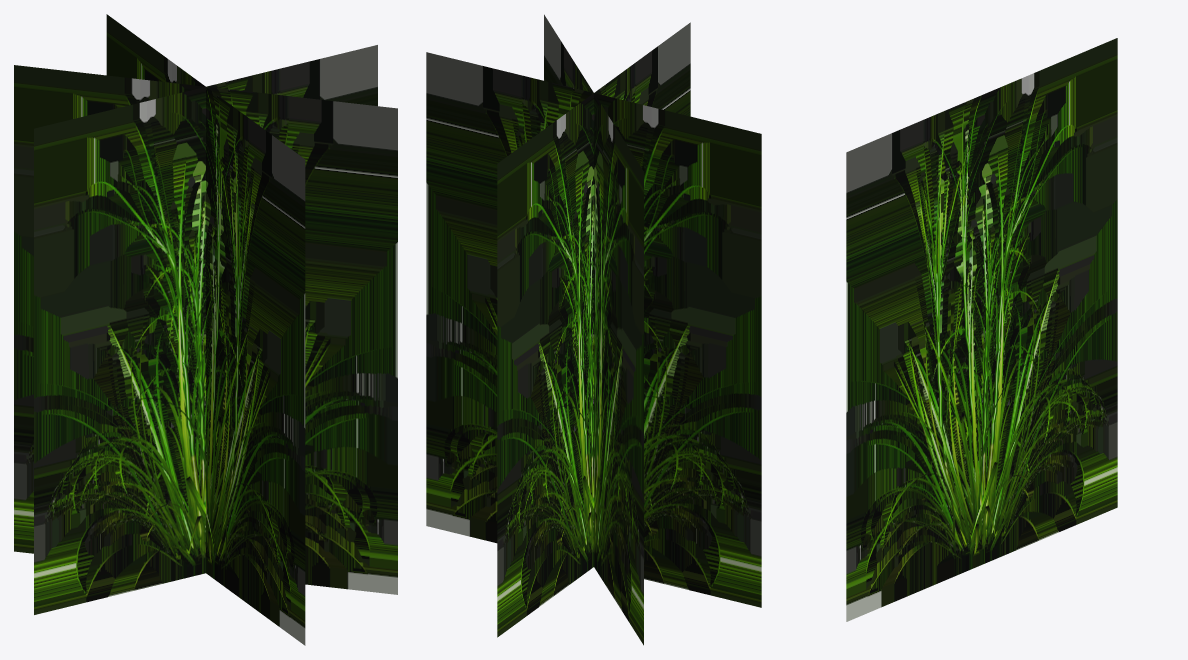
Rendered from grass.glb.
3 views of the same model, side by side, from view 1: azimuth 30°, elevation 25°; view 2: azimuth 150°, elevation 25°; view 3: azimuth 270°, elevation 25° (orthographic). The views are drawn at different scales.
Visible parts, largest first — view 1: tall-grass-png-44170.002; view 2: tall-grass-png-44170.002; view 3: tall-grass-png-44170.002.
Part boxes in pixels (x1,y1,x2,y2): tall-grass-png-44170.002: (14,14,397,645); tall-grass-png-44170.002: (426,14,761,645); tall-grass-png-44170.002: (846,38,1117,621).
Size of the model in its own units: 2.03 by 2.74 by 2.03.
1 material, 1 textured.
